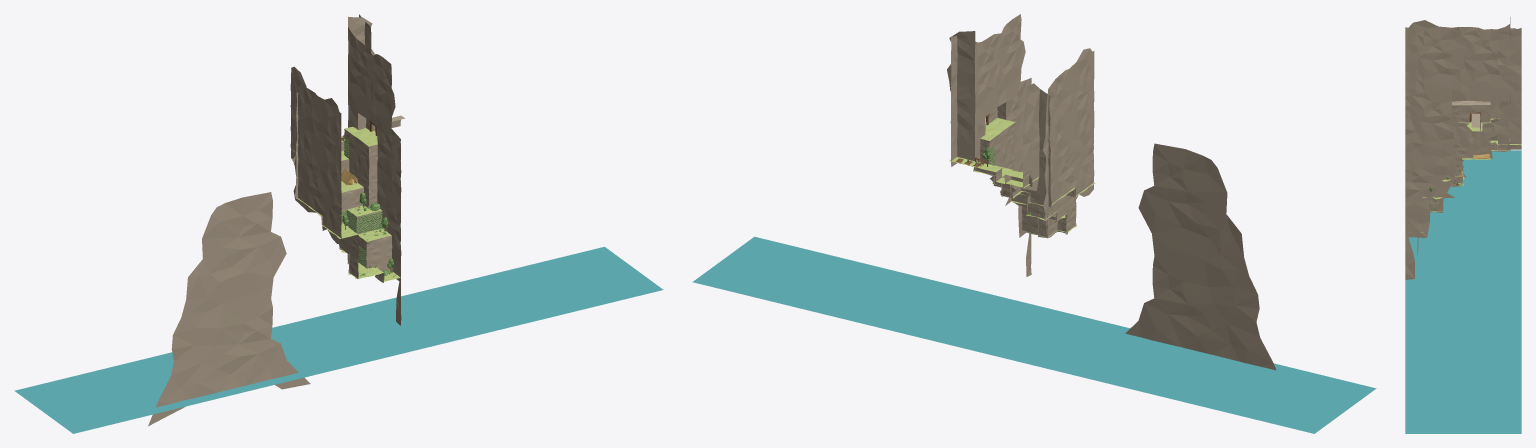
The picture shows the model from 3 angles, left to right: view 1: azimuth 30°, elevation 25°; view 2: azimuth 150°, elevation 25°; view 3: azimuth 270°, elevation 25°; orthographic projection. The views are drawn at different scales.
Parts seen in each view (by area): view 1: 1.002; view 2: 1.002; view 3: 1.002.
Boxes of the visible parts, box(x1,y1,x2,y2) form: 1.002: box(14, 14, 663, 433); 1.002: box(692, 14, 1376, 433); 1.002: box(1405, 17, 1521, 433).
Bounding box in the file's own units: 69.31 × 35.38 × 12.
Materials: 1 (1 with a texture image).
